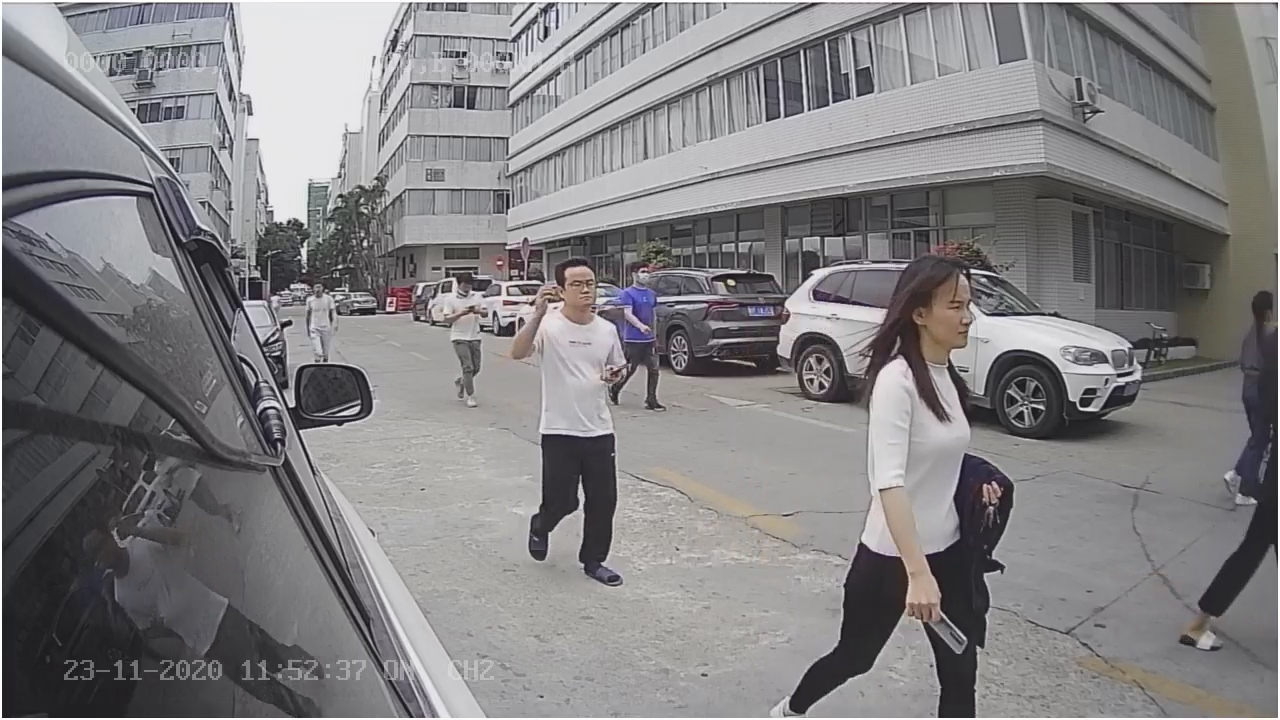person: (845, 259, 988, 694), (512, 245, 627, 576)
